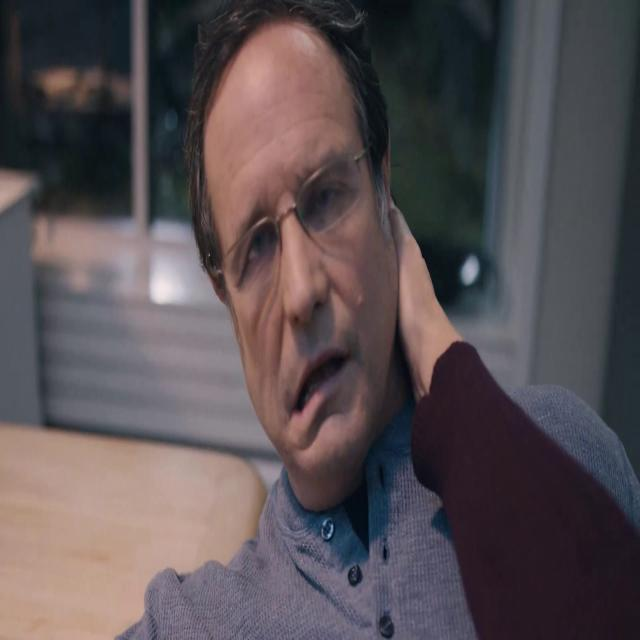stroke_face: (208, 17, 411, 488)
